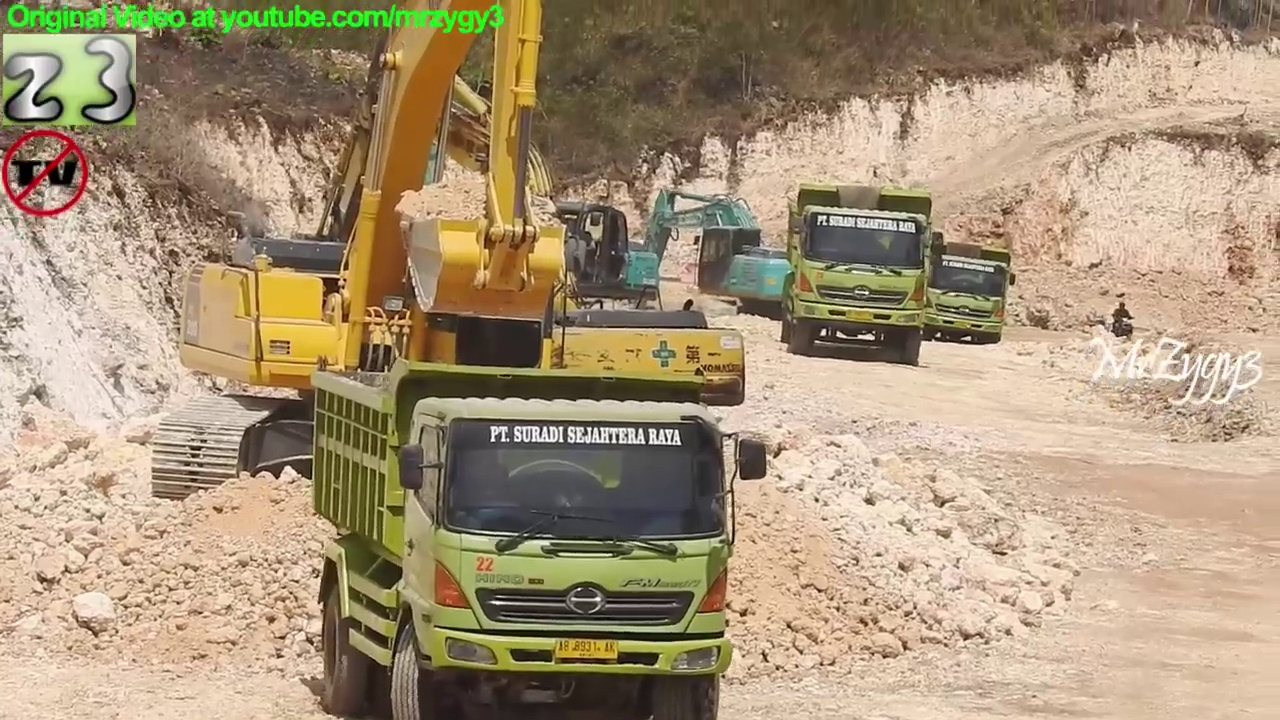excavator: (144, 1, 623, 513), (261, 1, 761, 462), (344, 1, 674, 341), (610, 182, 840, 327)
truck: (300, 352, 774, 720), (778, 179, 947, 372), (905, 231, 1022, 350)
